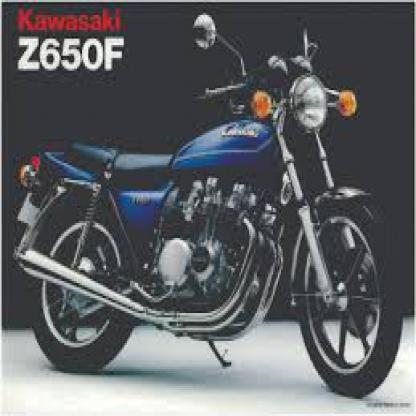Motorcycle: (16, 0, 401, 402)
